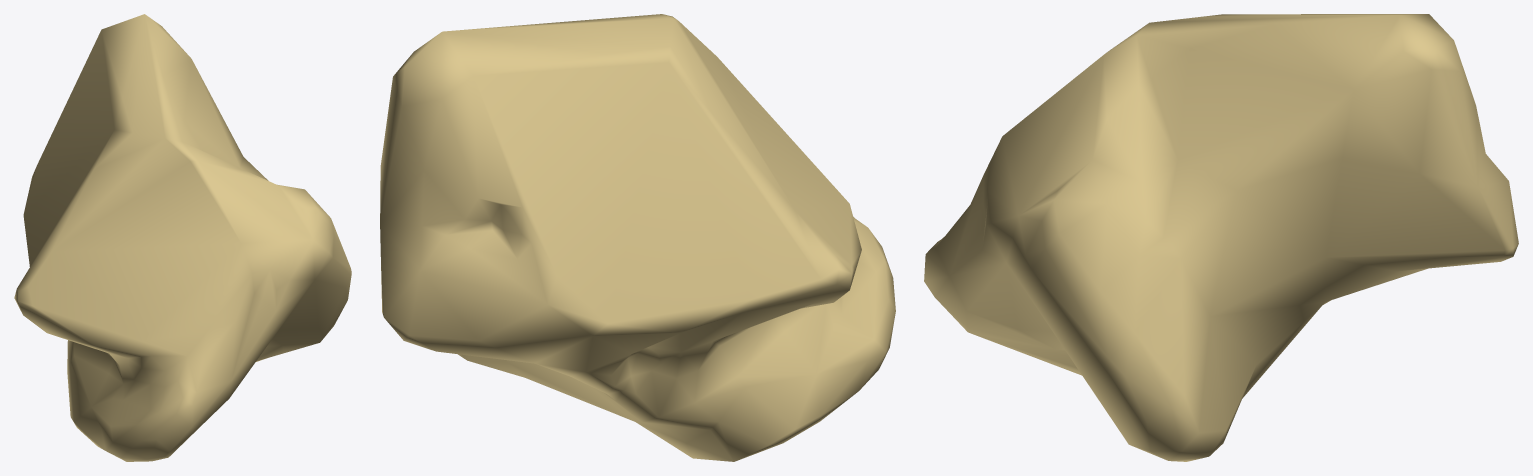
3 renders of one model, left to right at view 1: azimuth 30°, elevation 25°; view 2: azimuth 150°, elevation 25°; view 3: azimuth 270°, elevation 25°, orthographic. The views are drawn at different scales.
Parts seen in each view (by area): view 1: 左侧大多角骨; view 2: 左侧大多角骨; view 3: 左侧大多角骨.
Boxes of the visible parts, x1=… form: 左侧大多角骨: x1=14, y1=14, x2=351, y2=461; 左侧大多角骨: x1=380, y1=14, x2=895, y2=461; 左侧大多角骨: x1=924, y1=14, x2=1518, y2=461.
Bounding box in the file's own units: 0.026 × 0.0258 × 0.0306.
